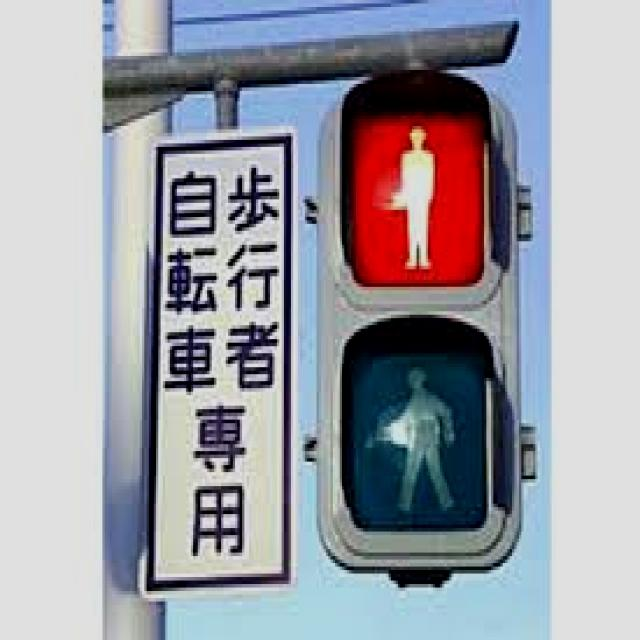trafficlight: (307, 74, 524, 574)
